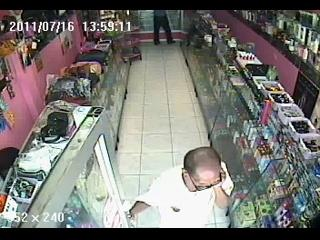Normal: (0, 100, 98, 226), (127, 146, 234, 229), (152, 10, 175, 46)
